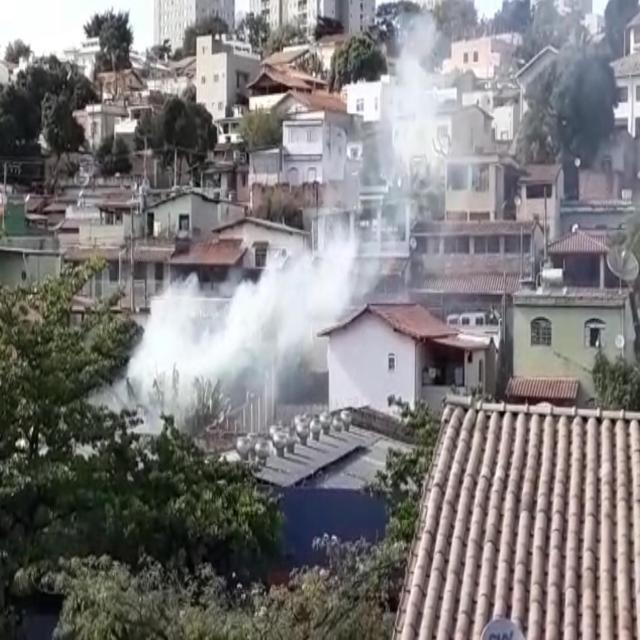Smoke: (111, 270, 300, 422), (383, 3, 458, 213), (297, 176, 387, 314)
